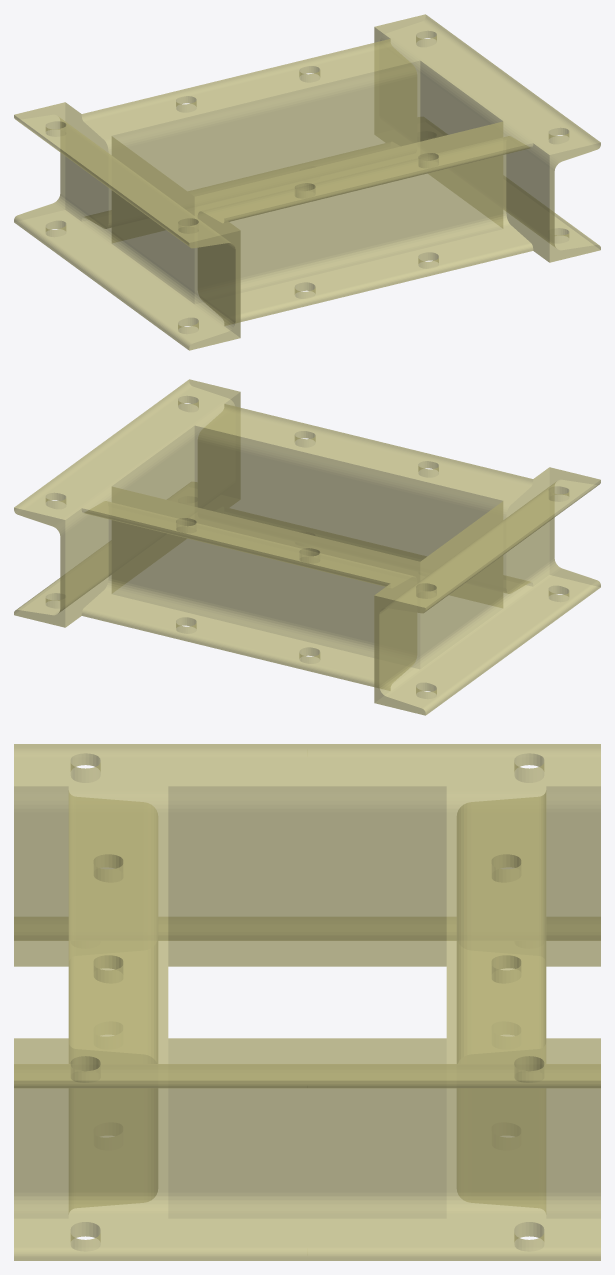
3 renders of one model, top to bottom at view 1: azimuth 30°, elevation 25°; view 2: azimuth 150°, elevation 25°; view 3: azimuth 270°, elevation 25°, orthographic. The views are drawn at different scales.
Visible parts, largest first — view 1: 【新湊小】蓄電池ベース; view 2: 【新湊小】蓄電池ベース; view 3: 【新湊小】蓄電池ベース.
Boxes of the visible parts, <box> form: 【新湊小】蓄電池ベース: <box>14,14,600,350</box>; 【新湊小】蓄電池ベース: <box>14,379,600,715</box>; 【新湊小】蓄電池ベース: <box>14,744,600,1260</box>.
Bounding box in the file's own units: 0.4 × 0.1 × 0.295.
